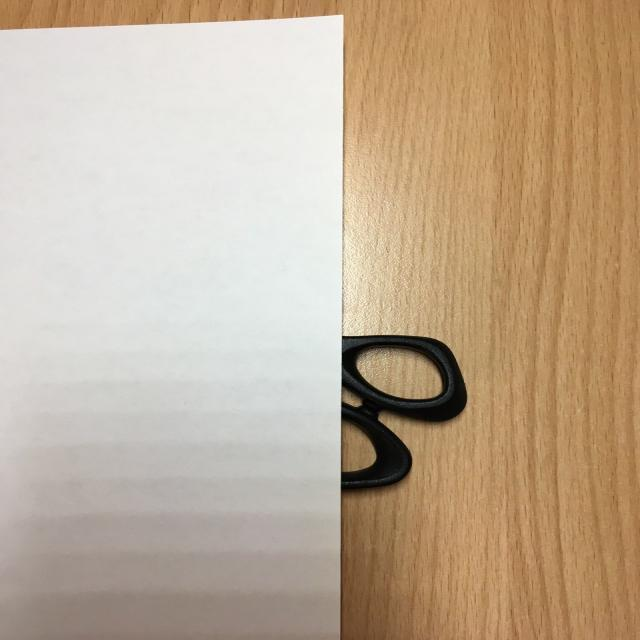scissors: (344, 330, 468, 492)
